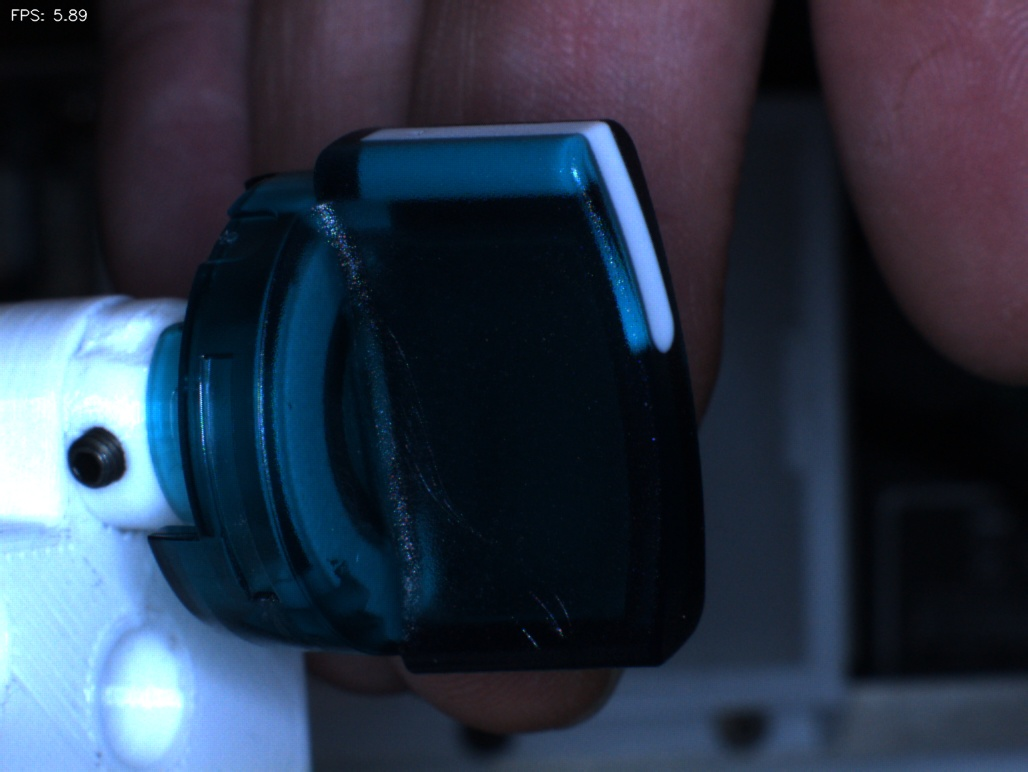Givrage: (377, 317, 471, 515), (482, 566, 585, 659)
